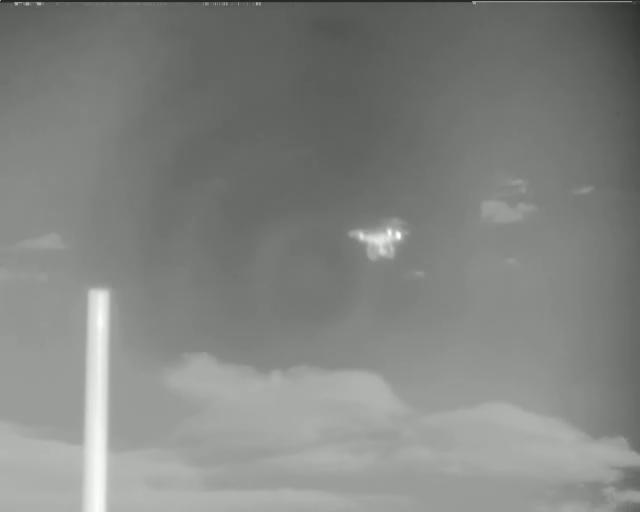uav: (348, 219, 410, 264)
